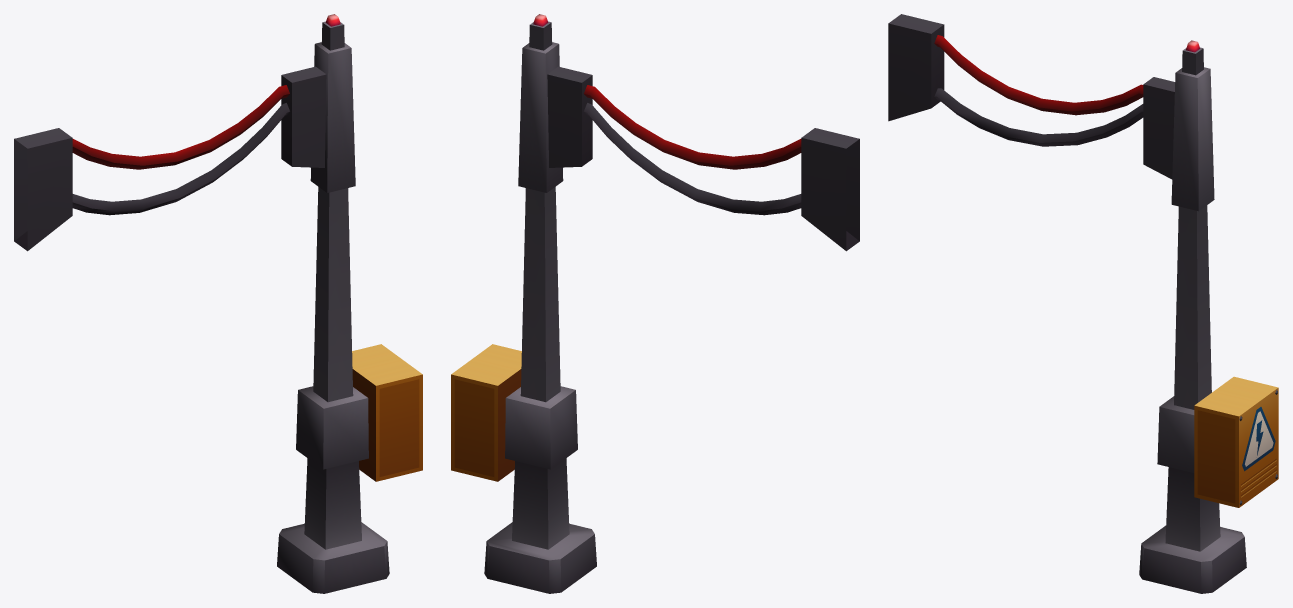
The model's file is Cable_Pole_1C.fbx.
3 views of the same model, side by side, from view 1: azimuth 30°, elevation 25°; view 2: azimuth 150°, elevation 25°; view 3: azimuth 330°, elevation 25° (orthographic). The views are drawn at different scales.
Visible parts, largest first — view 1: Cable_Pole_1C; view 2: Cable_Pole_1C; view 3: Cable_Pole_1C.
Boxes of the visible parts, bbox=[...] form: Cable_Pole_1C: bbox=[14, 14, 422, 593]; Cable_Pole_1C: bbox=[451, 14, 859, 593]; Cable_Pole_1C: bbox=[888, 14, 1278, 593].
Bounding box in the file's own units: 4.9 × 6.78 × 0.9852.
